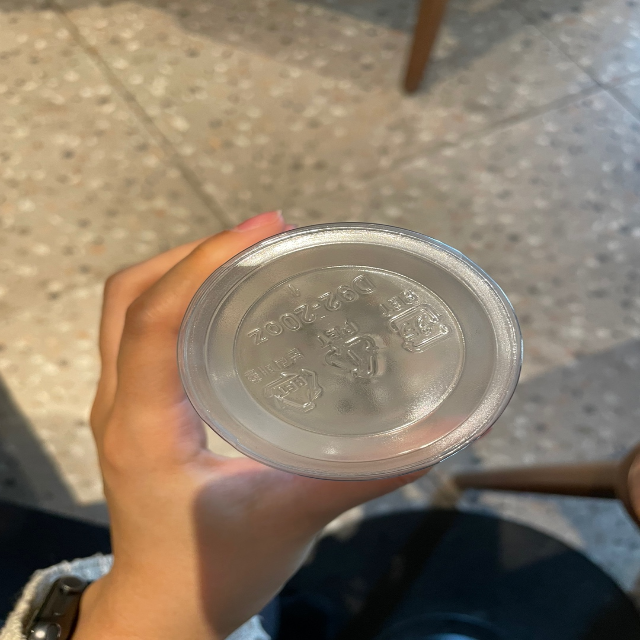pet: (241, 346, 324, 418), (377, 289, 457, 354), (314, 319, 385, 387)
